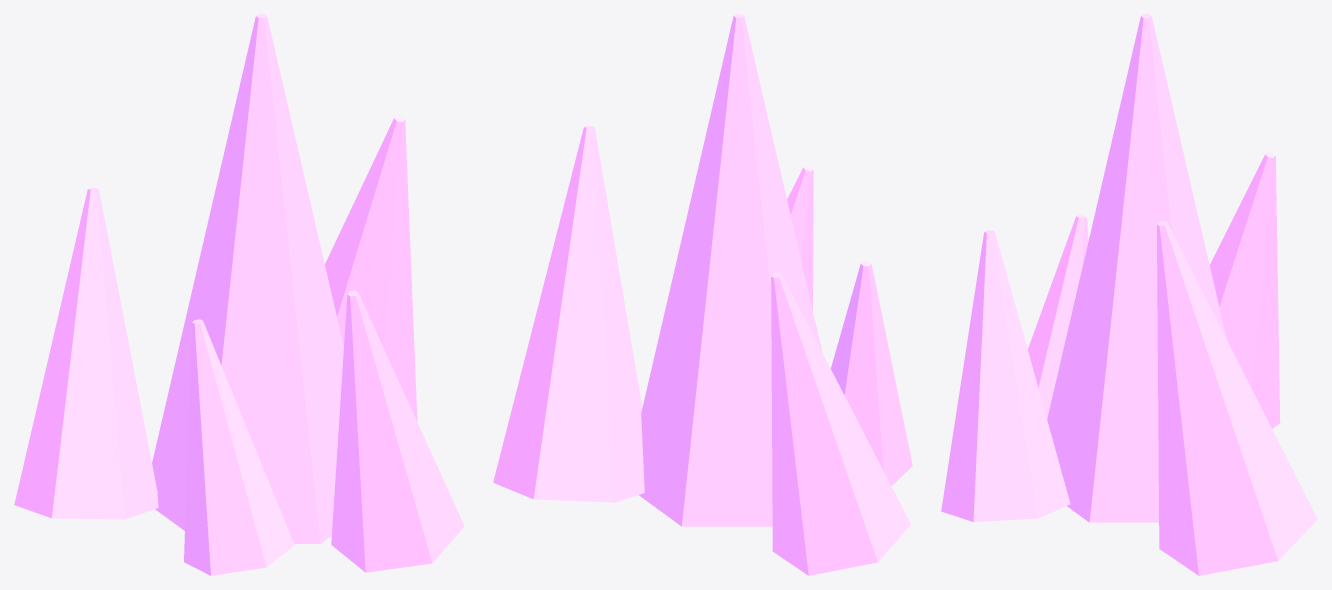
File: asteroid_crystal.glb
3 views of the same model, side by side, from view 1: azimuth 30°, elevation 25°; view 2: azimuth 150°, elevation 25°; view 3: azimuth 270°, elevation 25° (orthographic). The views are drawn at different scales.
Visible parts, largest first — view 1: Crystal; view 2: Crystal; view 3: Crystal.
Boxes of the visible parts, <box> form: Crystal: <box>14,14,464,575</box>; Crystal: <box>493,14,912,575</box>; Crystal: <box>941,14,1317,575</box>.
Size of the model in its own units: 1.56 by 1.95 by 1.39.
